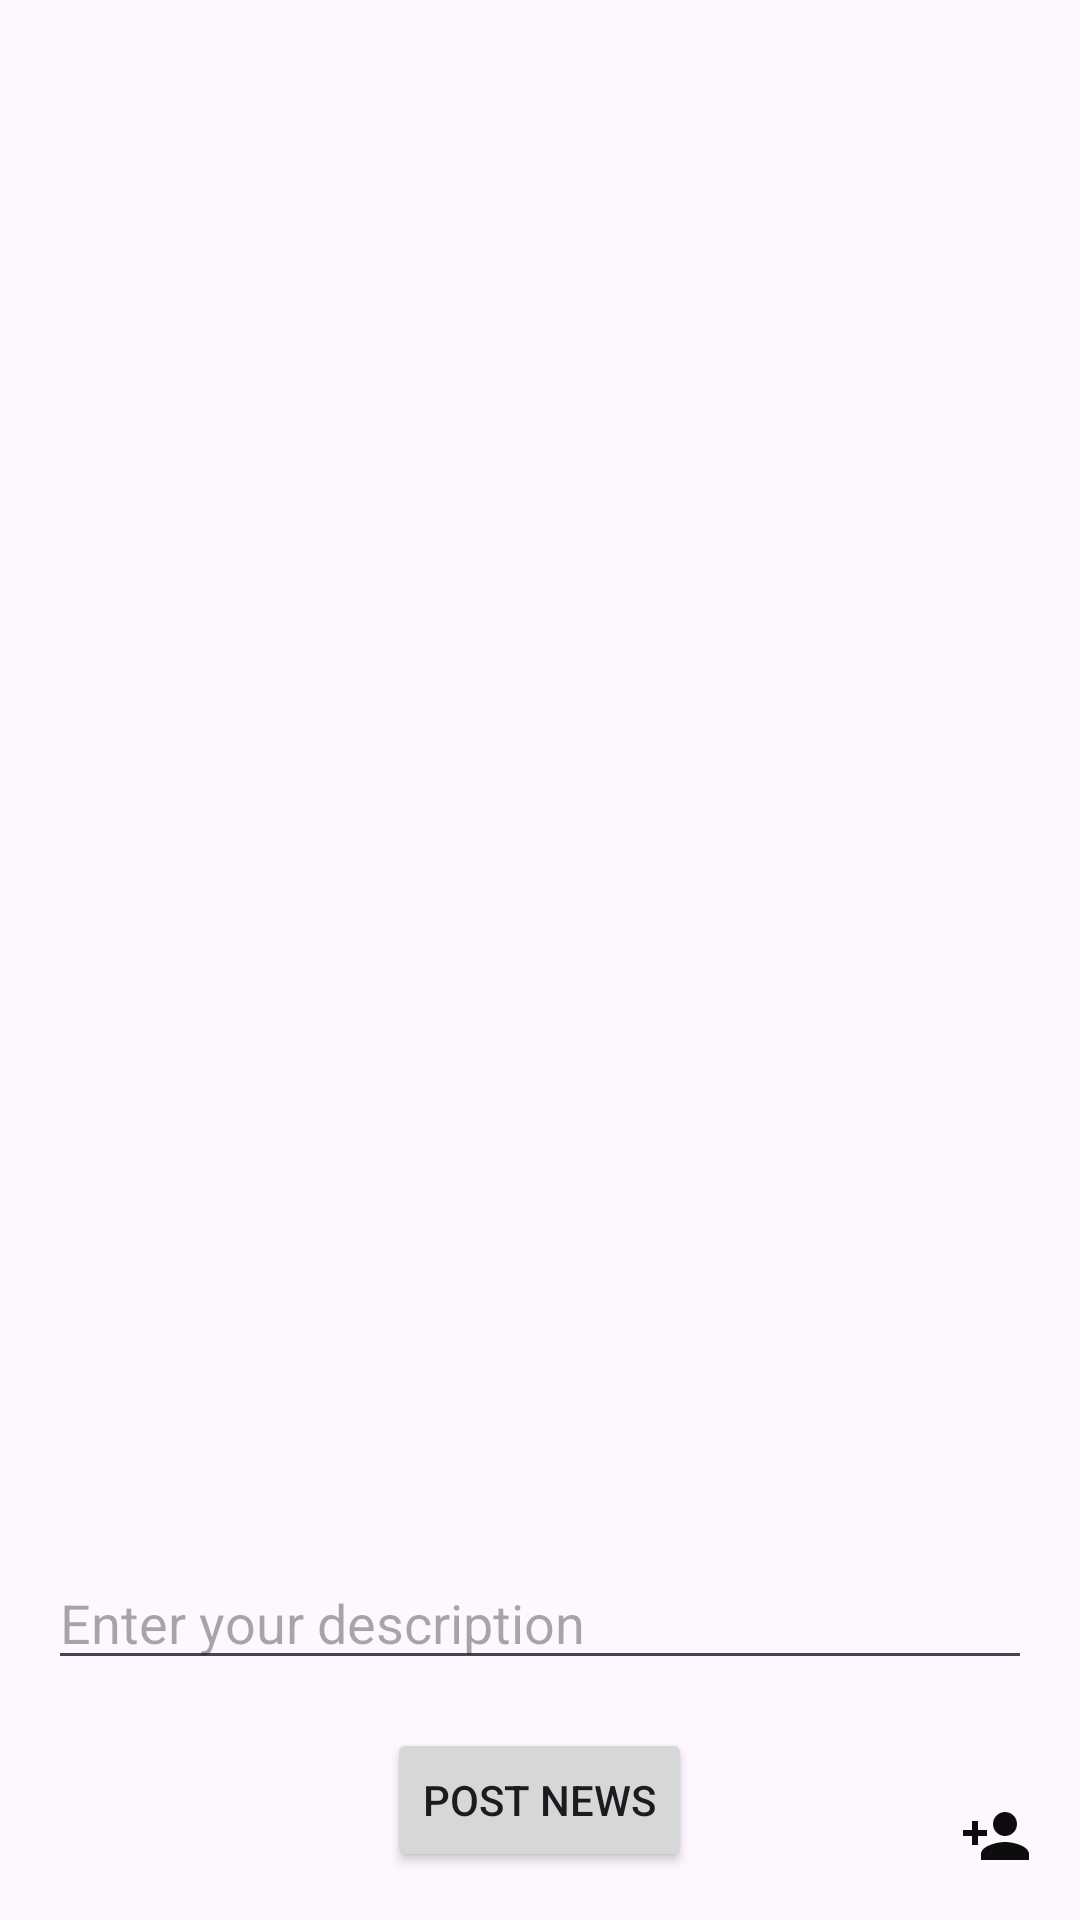

Icons on this 1080px x 1920px Android screen, each with the point to tap as [x,y]:
person add: [996,1836]
